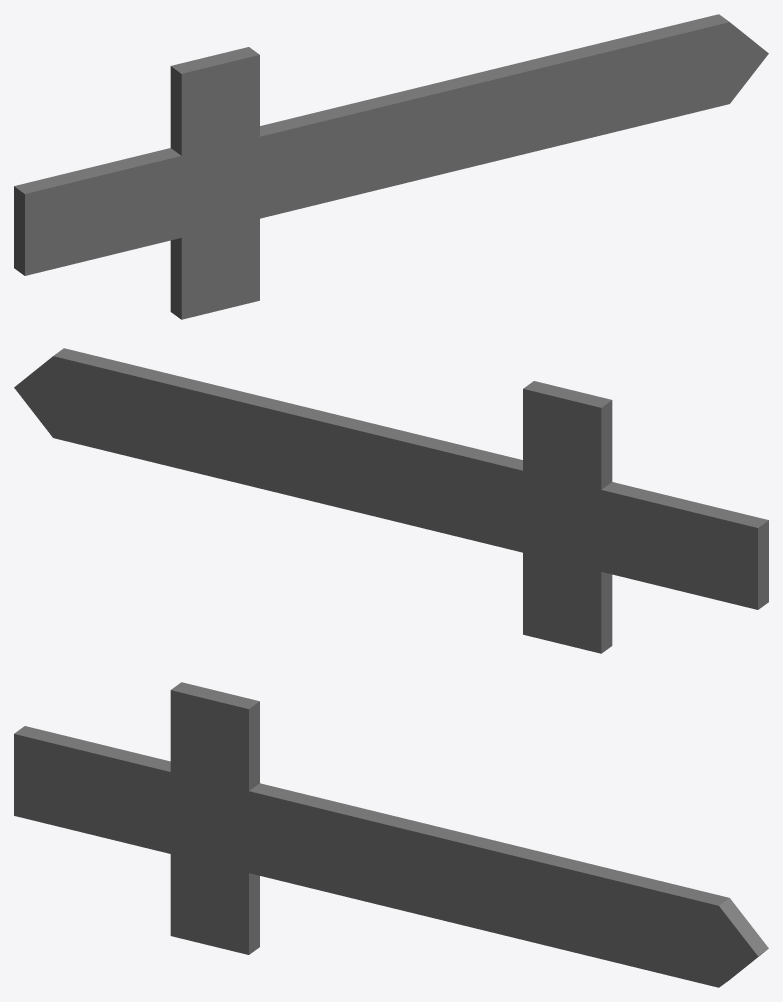
Rendered from Sword.FBX.
The picture shows the model from 3 angles, top to bottom: view 1: azimuth 30°, elevation 25°; view 2: azimuth 150°, elevation 25°; view 3: azimuth 330°, elevation 25°; orthographic projection.
Parts seen in each view (by area): view 1: Line001; view 2: Line001; view 3: Line001.
Boxes of the visible parts, box(x1,y1,x2,y2) form: Line001: box(14, 14, 768, 319); Line001: box(14, 348, 768, 653); Line001: box(14, 682, 768, 987).
Bounding box in the file's own units: 190 × 60 × 4.8.
Materials: 1 (1 with a texture image).
